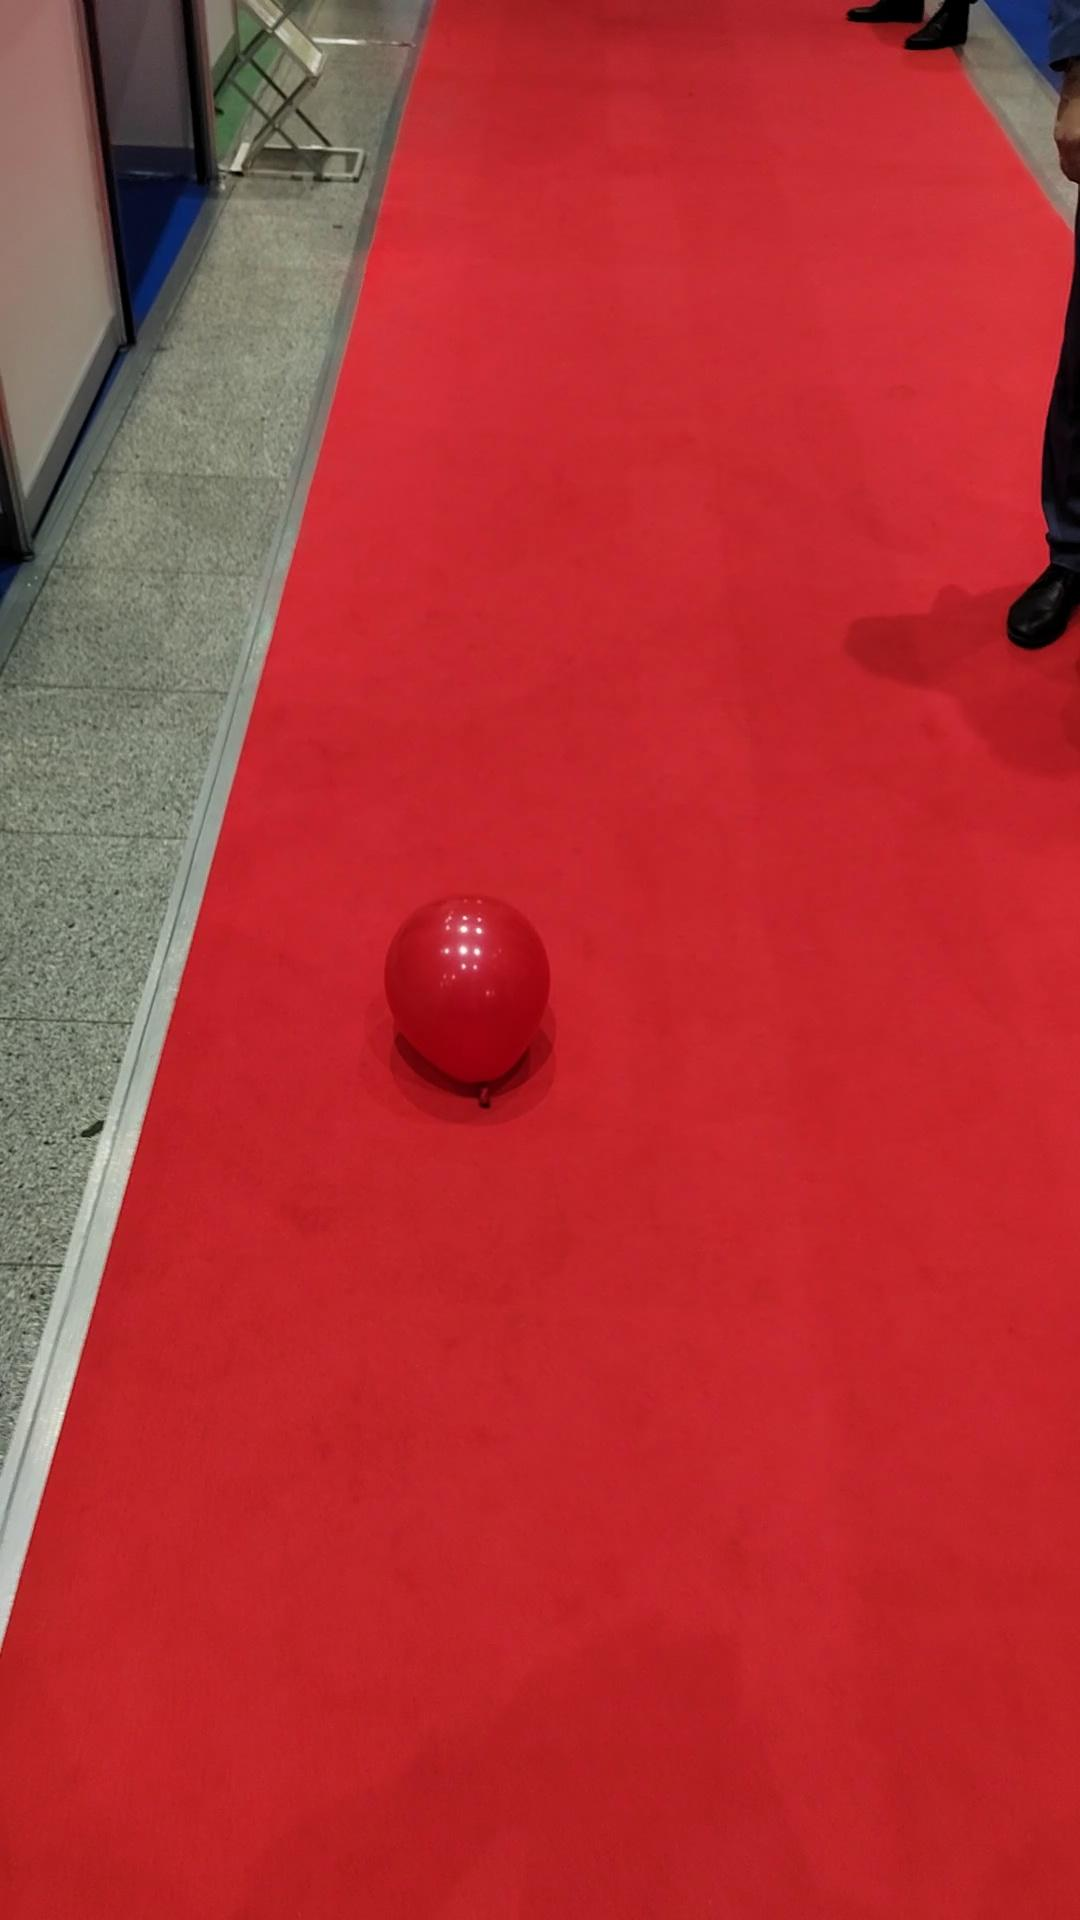red: (384, 895, 553, 1092)
